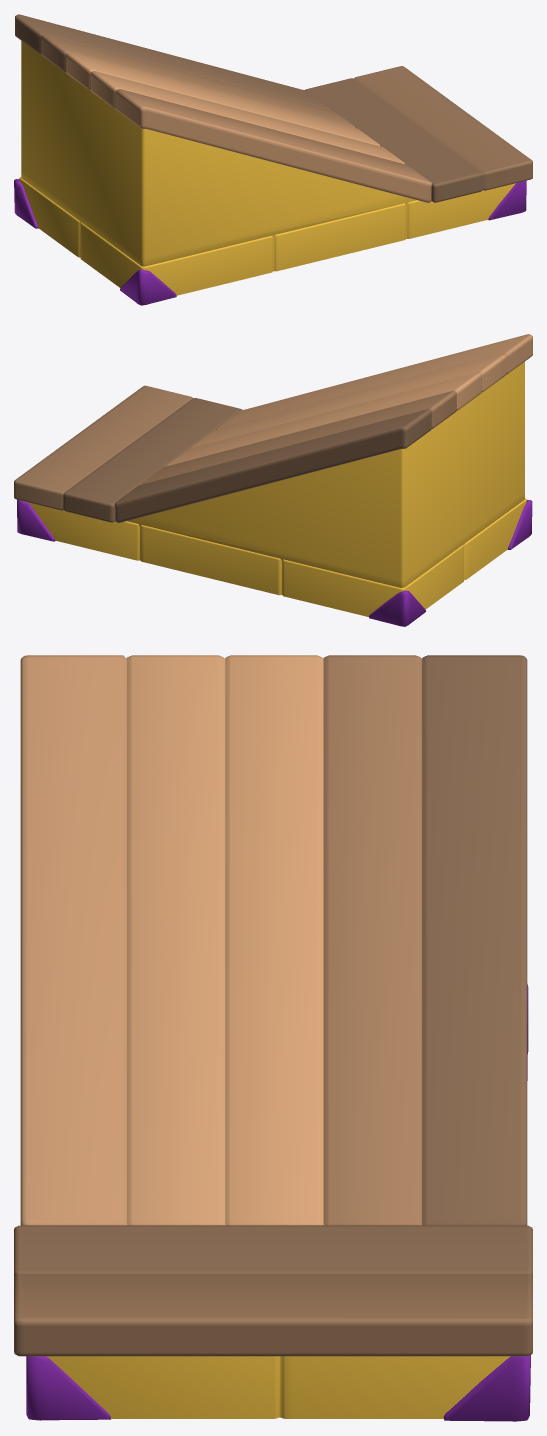
Rendered from HoopsRamp.fbx.
3 renders of one model, top to bottom at view 1: azimuth 30°, elevation 25°; view 2: azimuth 150°, elevation 25°; view 3: azimuth 270°, elevation 25°, orthographic. The views are drawn at different scales.
Parts seen in each view (by area): view 1: ENv_S02_Ramp_MO_1, ENv_S02_Ramp_MO_2, ENv_S02_Ramp_MO_3, ENv_S02_Ramp_MO_0; view 2: ENv_S02_Ramp_MO_1, ENv_S02_Ramp_MO_2, ENv_S02_Ramp_MO_3, ENv_S02_Ramp_MO_0; view 3: ENv_S02_Ramp_MO_2, ENv_S02_Ramp_MO_3, ENv_S02_Ramp_MO_1, ENv_S02_Ramp_MO_0.
Part boxes in pixels (bbox=[...]): ENv_S02_Ramp_MO_1: bbox=[19, 41, 515, 295]; ENv_S02_Ramp_MO_2: bbox=[15, 14, 432, 202]; ENv_S02_Ramp_MO_3: bbox=[305, 66, 532, 202]; ENv_S02_Ramp_MO_0: bbox=[14, 179, 526, 305]; ENv_S02_Ramp_MO_1: bbox=[28, 362, 526, 616]; ENv_S02_Ramp_MO_2: bbox=[114, 334, 532, 522]; ENv_S02_Ramp_MO_3: bbox=[14, 385, 242, 522]; ENv_S02_Ramp_MO_0: bbox=[17, 499, 532, 626]; ENv_S02_Ramp_MO_2: bbox=[20, 655, 527, 1225]; ENv_S02_Ramp_MO_3: bbox=[14, 1225, 532, 1356]; ENv_S02_Ramp_MO_1: bbox=[46, 1356, 510, 1418]; ENv_S02_Ramp_MO_0: bbox=[26, 984, 530, 1421].
Bounding box in the file's own units: 20.36 × 9.89 × 11.82.
